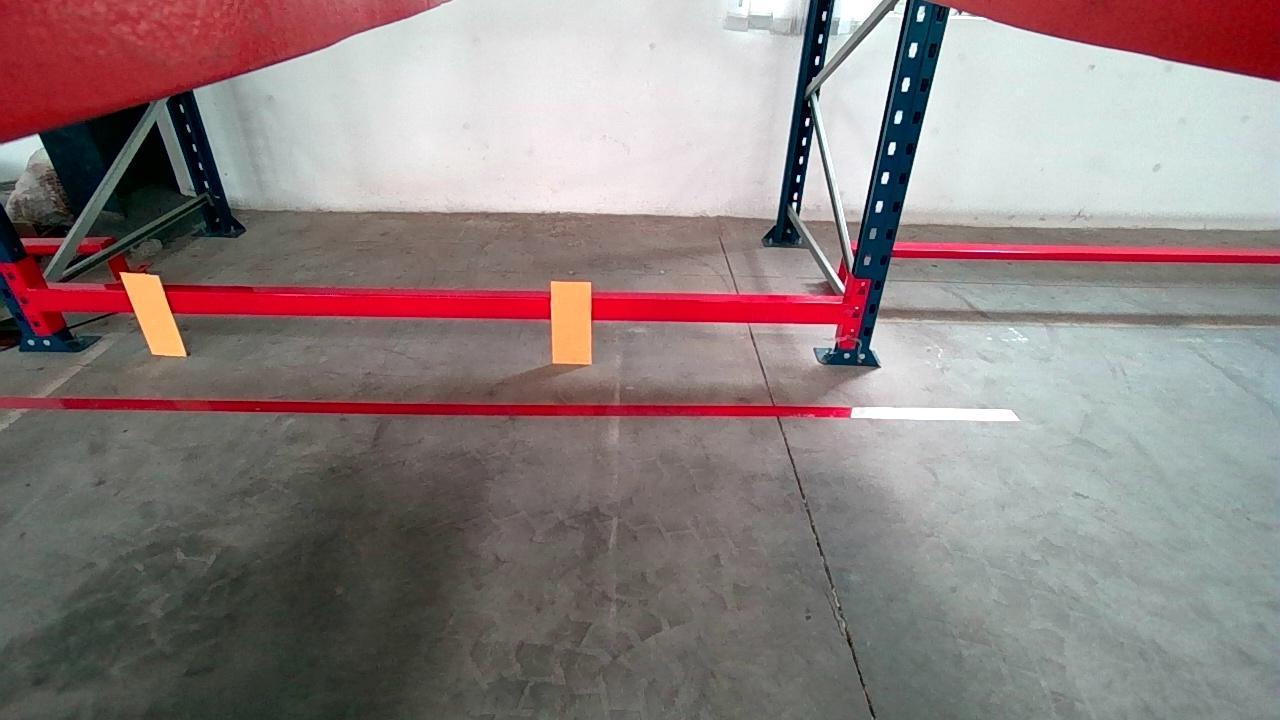h_rack: (24, 288, 861, 327)
orange_strip: (118, 271, 188, 357), (548, 281, 590, 364)
red_line: (0, 392, 1021, 421)
